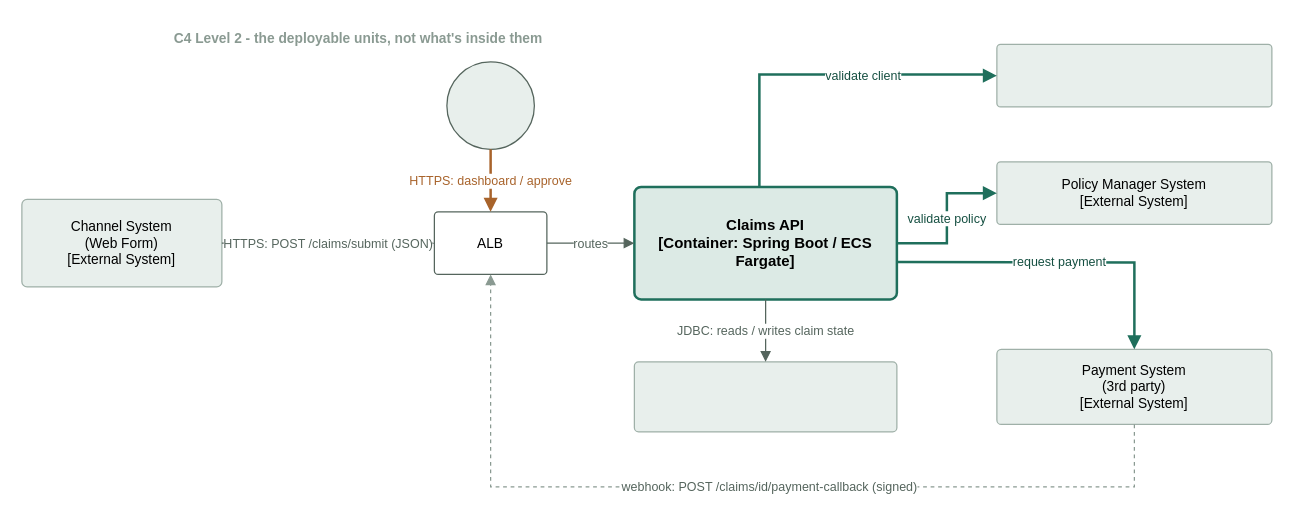
This 1294x519 diagram has some shape labels left out. The box of each missing label's shape, as (x1, y1, x2, y2) in pixels:
Claim Database [Container: RDS PostgreSQL]: (633, 361, 897, 432)
Claims Analyst [Person]: (446, 61, 534, 149)
Client Registry System [External System]: (996, 43, 1272, 107)
